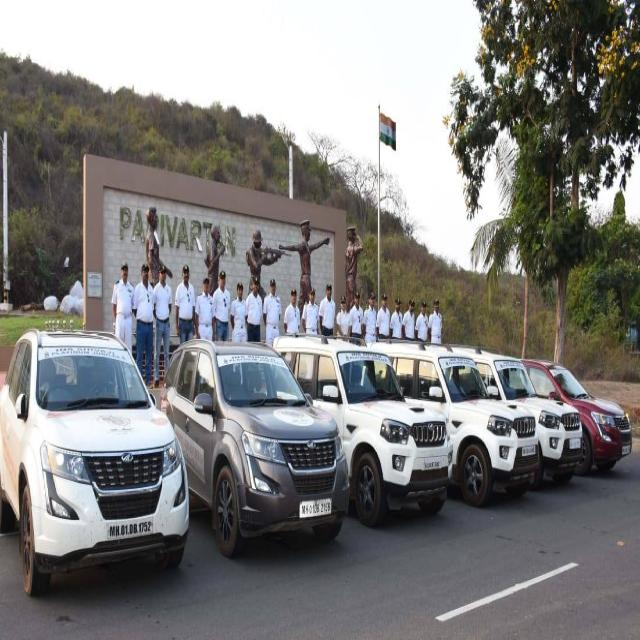plate: (108, 513, 154, 541), (298, 496, 335, 522), (422, 454, 441, 473), (568, 435, 582, 453), (521, 442, 536, 458), (620, 441, 633, 456)
